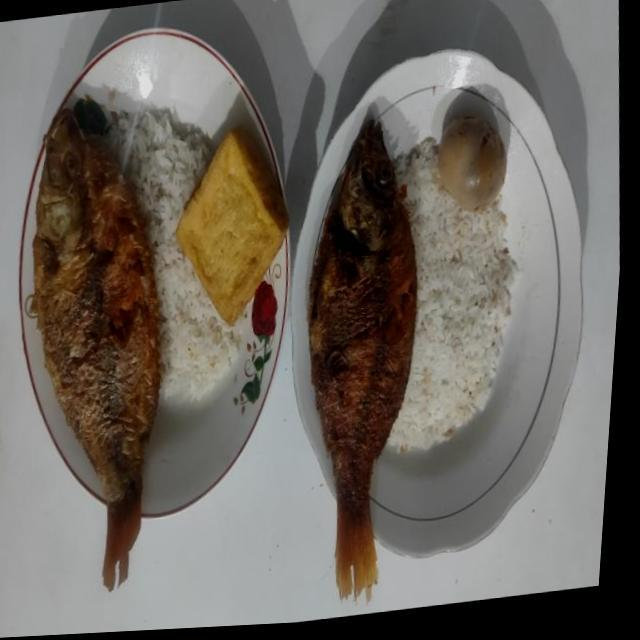ikan_mujair: (27, 108, 162, 590), (307, 121, 417, 598)
nasi_putih: (101, 90, 243, 472), (387, 138, 518, 452)
tahu_goreng: (175, 126, 288, 324)
